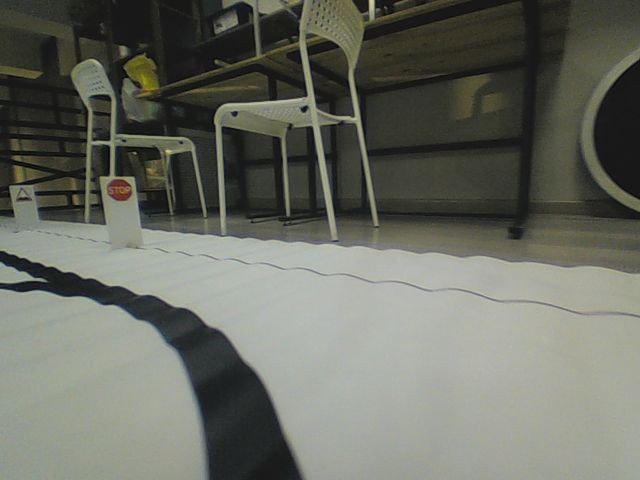Nerov: (15, 186, 32, 203)
Stop: (105, 178, 132, 202)
